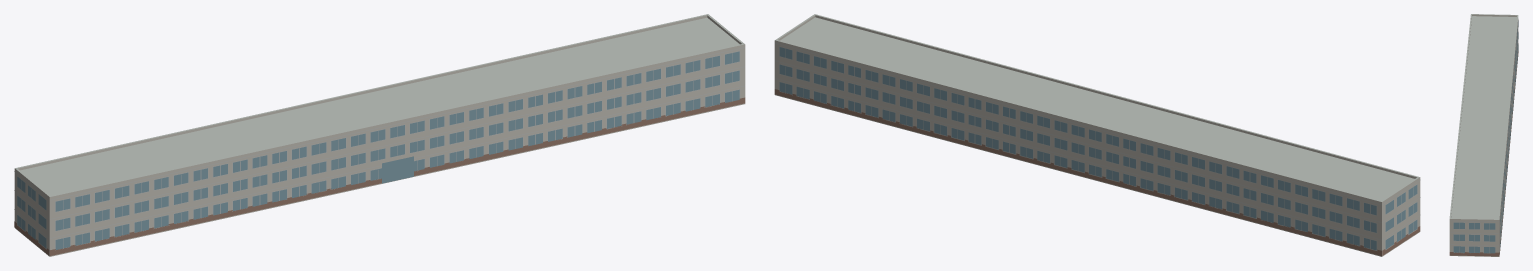
File: public-1538471d-b07d-4007-8377-cb563821c119.glb
3 renders of one model, left to right at view 1: azimuth 30°, elevation 25°; view 2: azimuth 150°, elevation 25°; view 3: azimuth 270°, elevation 25°, orthographic. The views are drawn at different scales.
Visible parts, largest first — view 1: public-1538471d-b07d-4007-8377-cb563821c119; view 2: public-1538471d-b07d-4007-8377-cb563821c119; view 3: public-1538471d-b07d-4007-8377-cb563821c119.
Part boxes in pixels (<box>): public-1538471d-b07d-4007-8377-cb563821c119: <box>14,14,745,256</box>; public-1538471d-b07d-4007-8377-cb563821c119: <box>774,14,1420,256</box>; public-1538471d-b07d-4007-8377-cb563821c119: <box>1449,14,1518,256</box>.
Bounding box in the file's own units: 109 × 9.15 × 15.57.
